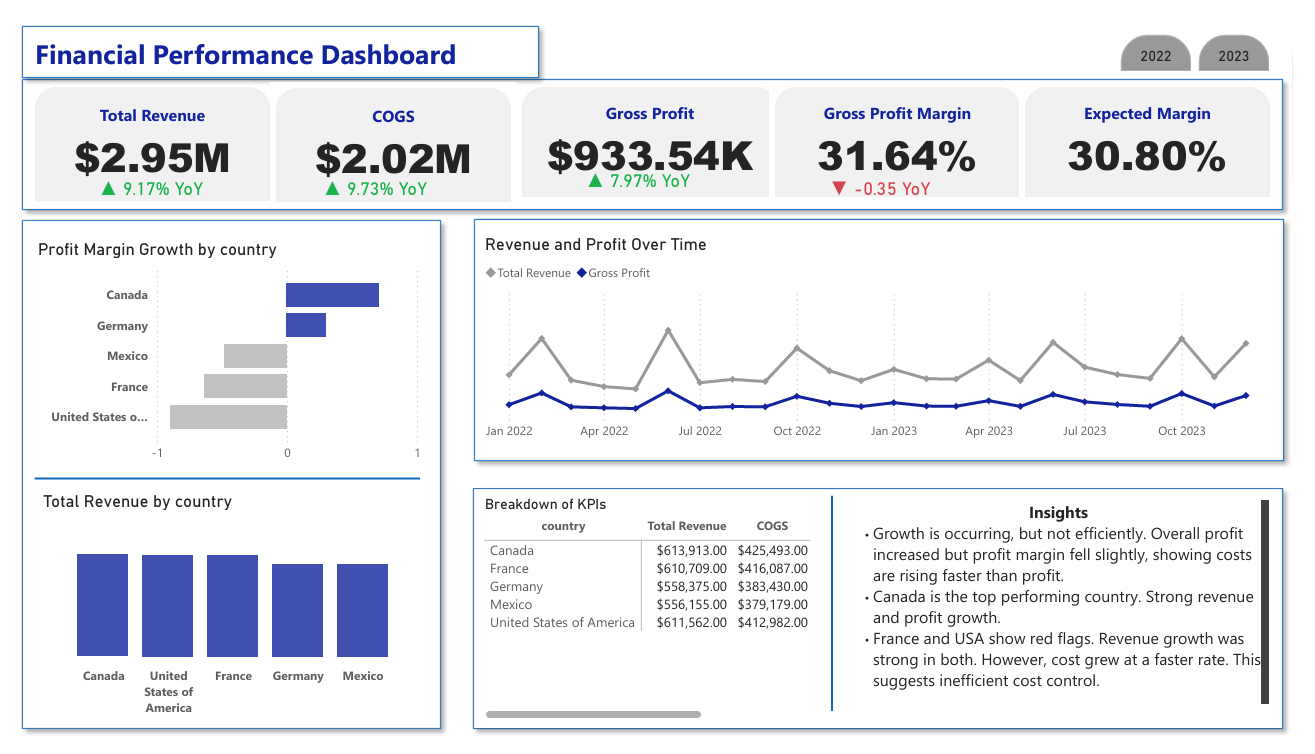

What the dashboard file says about the page in this screenshot:
{"tool":"powerbi","page":{"name":"Page 1","canvas":[1280,720],"ordinal":0},"visuals":[{"type":"shape","box":[0,53,1278.8,149.1],"z":0},{"type":"cardVisual","fields":{"Data":["Measures .Total Revenue"]},"box":[16.6,64.6,245.2,124.2],"z":1000},{"type":"cardVisual","fields":{"Data":["Measures .Revenue YoY"]},"box":[48,89.4,180.6,157.4],"z":2000},{"type":"cardVisual","fields":{"Data":["Measures .Total Profit"]},"box":[503.6,64.6,266.7,120.9],"z":3000},{"type":"cardVisual","fields":{"Data":["Measures .Profit YoY"]},"box":[535,89.4,180.6,140],"z":4000},{"type":"cardVisual","fields":{"Data":["Measures .Profit Margin"]},"box":[757,64.6,255.1,120.9],"z":5000},{"type":"shape","box":[0,193.8,437.3,526.8],"z":6000},{"type":"shape","box":[452,193,828,260],"z":7000},{"type":"columnChart","fields":{"Category":["Query1.country"],"Y":["Measures .Total Revenue"]},"box":[24.8,473.8,382.6,233.6],"z":8000},{"type":"barChart","fields":{"Category":["Query1.country"],"Y":["Measures .Profit Margin Growth"]},"box":[19.9,222,397.6,231.9],"z":9000},{"type":"shape","box":[450.6,462.2,828.2,258.4],"z":10000},{"type":"textbox","box":[836.5,478.7,425.7,215.3],"z":11000},{"type":"pivotTable","title":"Breakdown of  KPIs","fields":{"Rows":["Query1.country"],"Values":["Measures .Total Revenue","Measures .Total Cost","Measures .Gross Profit"]},"box":[467.1,478.7,334.6,228.6],"z":12000},{"type":"lineChart","title":"Revenue and Profit Over Time","fields":{"Y":["Measures .Total Revenue","Measures .Total Profit"],"Category":["Dates.Year Hierarchy.Year","Dates.Year Hierarchy.Month","Dates.Year Hierarchy.Date"]},"box":[467.1,217,795.1,215.3],"z":13000},{"type":"shape","box":[21.5,386,386,150.7],"z":14000},{"type":"shape","box":[626.1,478.7,386,215.3],"z":15000},{"type":"advancedSlicerVisual","fields":{"Values":["Dates.Year"]},"box":[1103.2,13.3,159,46.4],"z":16000},{"type":"cardVisual","fields":{"Data":["Measures .Margin YoY"]},"box":[776.9,89.4,180.6,157.4],"z":17000},{"type":"shape","box":[0,0,535,69.6],"z":18000},{"type":"textbox","box":[16.6,13.3,450.6,46.4],"z":19000},{"type":"cardVisual","fields":{"Data":["Measures .Expected Margin"]},"box":[1007.1,64.6,255.1,120.9],"z":20000},{"type":"cardVisual","fields":{"Data":["Measures .COGS"]},"box":[258.4,66.3,245.2,124.2],"z":21000},{"type":"cardVisual","fields":{"Data":["Measures .Cost YoY"]},"box":[271.7,89.4,180.6,157.4],"z":22000}]}

Visuals, with their boxes in screenshot pixels (x1, y1, x2, y2), scaled from the page's 1280x720 canvas onto the 1315x754 screenshot:
shape: 0, 56, 1314, 212
cardVisual - Measures .Total Revenue: 17, 68, 269, 198
cardVisual - Measures .Revenue YoY: 49, 94, 235, 258
cardVisual - Measures .Total Profit: 517, 68, 791, 194
cardVisual - Measures .Profit YoY: 550, 94, 735, 240
cardVisual - Measures .Profit Margin: 778, 68, 1040, 194
shape: 0, 203, 449, 753
shape: 464, 202, 1314, 474
columnChart - Query1.country x Measures .Total Revenue: 25, 496, 419, 741
barChart - Query1.country x Measures .Profit Margin Growth: 20, 232, 429, 475
shape: 463, 484, 1314, 753
textbox: 859, 501, 1297, 727
"Breakdown of  KPIs" pivotTable: 480, 501, 824, 741
"Revenue and Profit Over Time" lineChart: 480, 227, 1297, 453
shape: 22, 404, 419, 562
shape: 643, 501, 1040, 727
advancedSlicerVisual - Dates.Year: 1133, 14, 1297, 63
cardVisual - Measures .Margin YoY: 798, 94, 984, 258
shape: 0, 0, 550, 73
textbox: 17, 14, 480, 63
cardVisual - Measures .Expected Margin: 1035, 68, 1297, 194
cardVisual - Measures .COGS: 265, 69, 517, 199
cardVisual - Measures .Cost YoY: 279, 94, 465, 258
